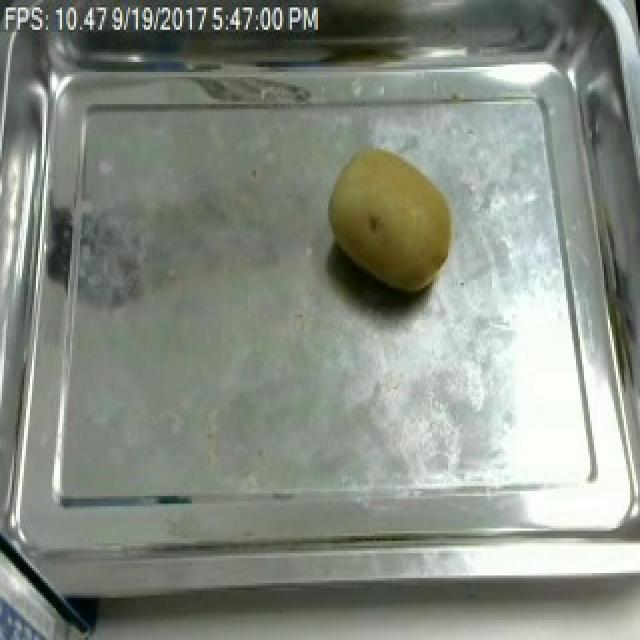Fruit: (320, 136, 464, 302)
